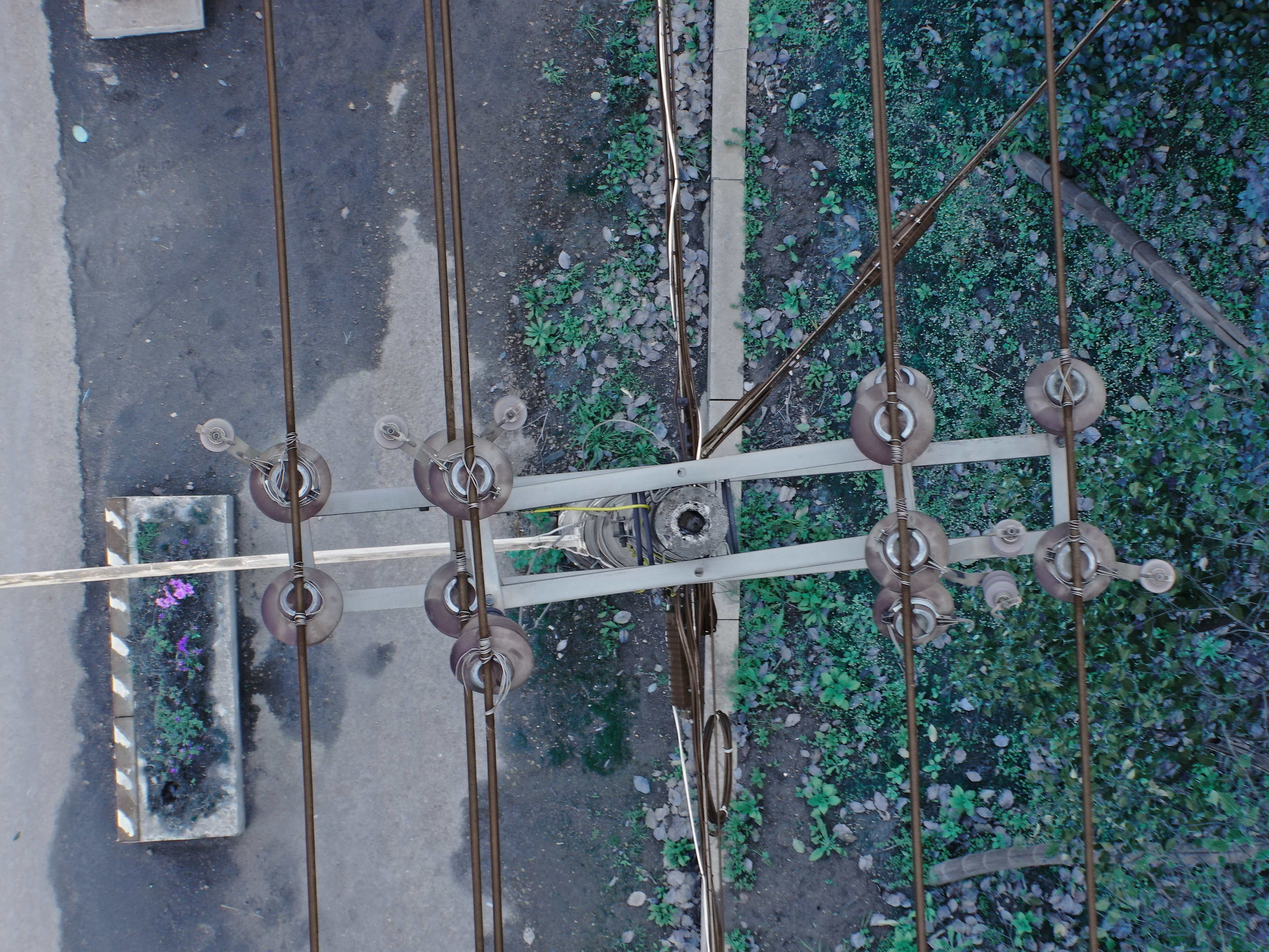severe_soiling_no_discharge_whole: (446, 606, 543, 698), (254, 562, 355, 649), (242, 435, 338, 523), (1023, 347, 1113, 439), (1030, 516, 1118, 606), (428, 433, 513, 525), (848, 380, 938, 466), (864, 510, 953, 594), (869, 579, 959, 650), (420, 551, 490, 641), (412, 424, 483, 506), (854, 359, 939, 412)
